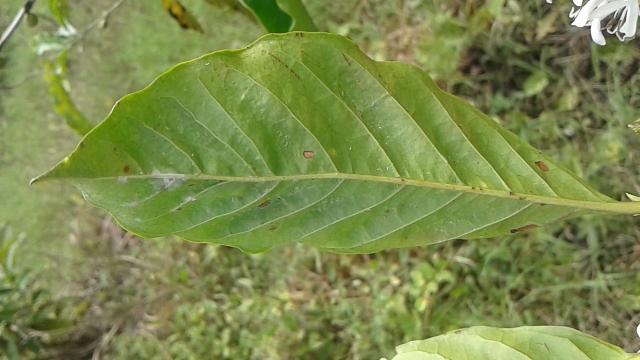rust_level_1: (30, 34, 611, 255)
